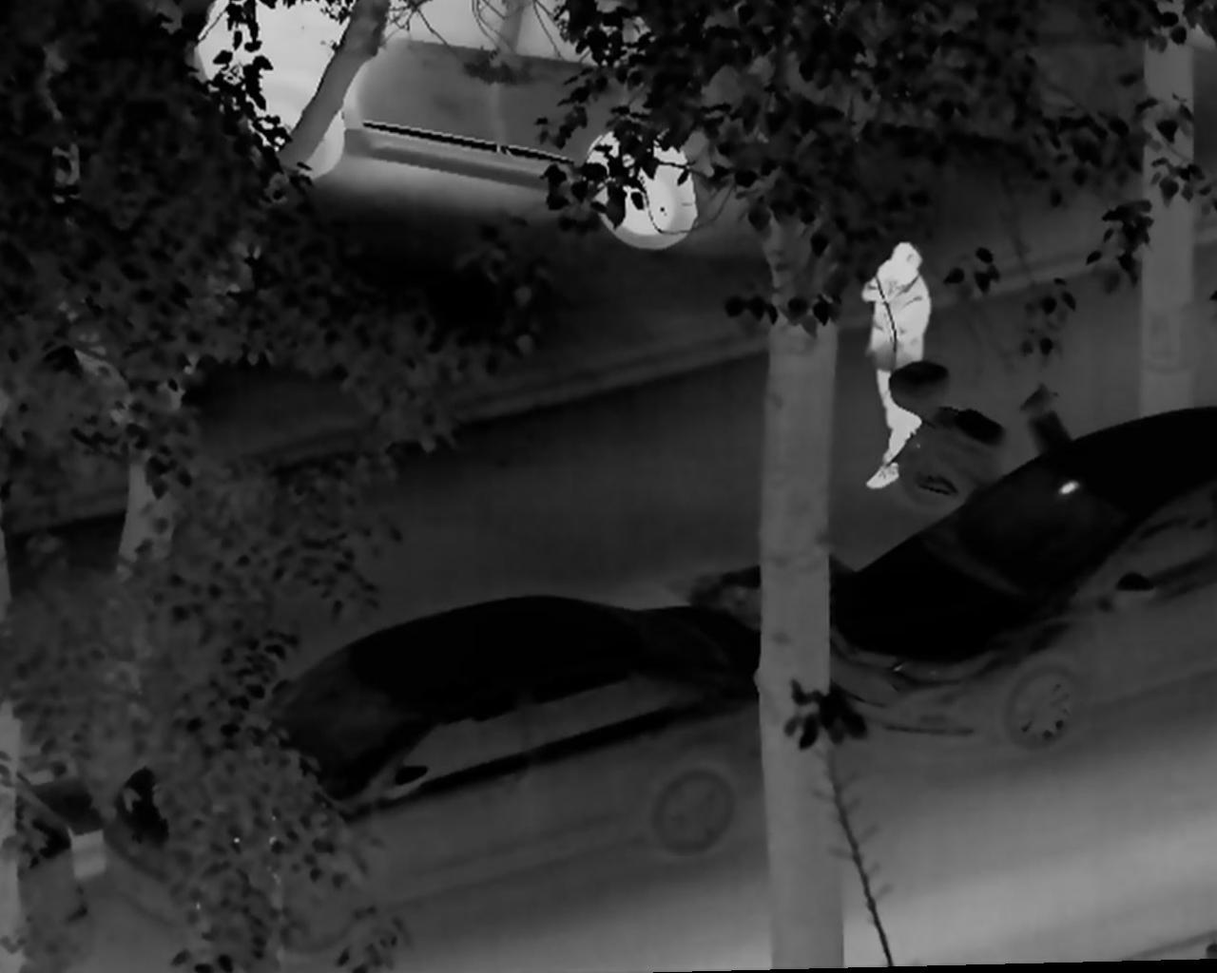person: (855, 239, 940, 494)
